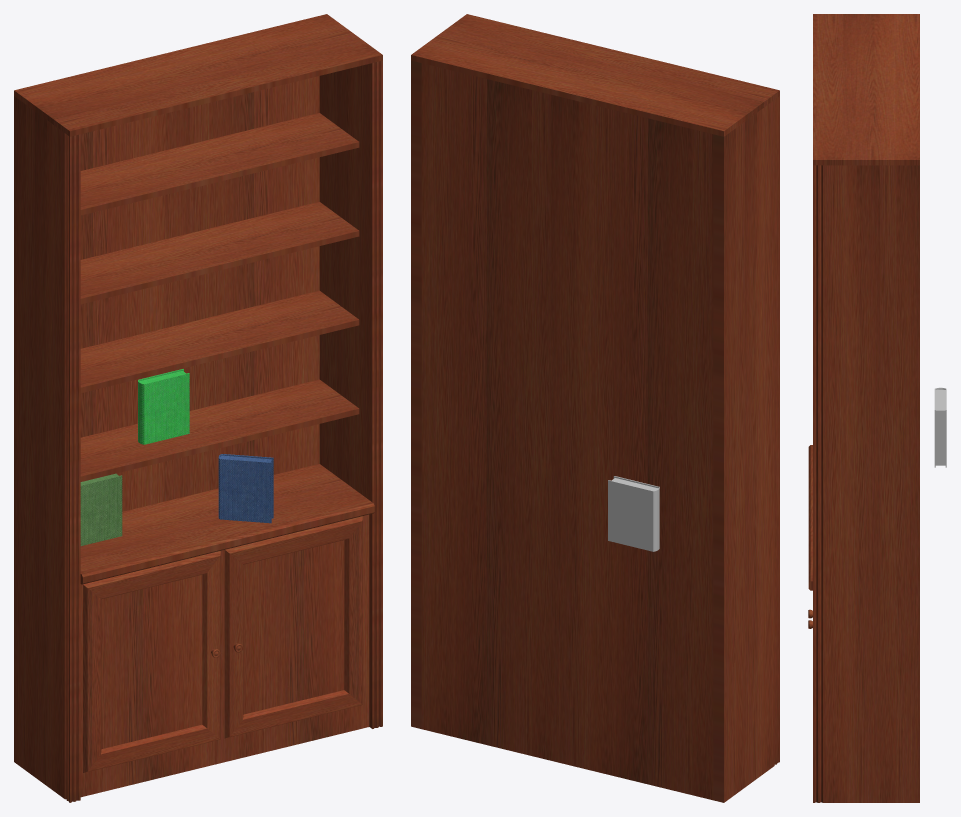
The picture shows the model from 3 angles, left to right: view 1: azimuth 30°, elevation 25°; view 2: azimuth 150°, elevation 25°; view 3: azimuth 270°, elevation 25°; orthographic projection. The views are drawn at different scales.
Parts seen in each view (by area): view 1: Cabinet, Cube-004, Cube-005, Cube-003; view 2: Cabinet, Cube-002; view 3: Cabinet, Cube-002.
Part boxes in pixels (left/top/right/bottom): Cabinet: left=14, top=14, right=382, bottom=802; Cube-004: left=218, top=454, right=273, bottom=523; Cube-005: left=138, top=369, right=189, bottom=444; Cube-003: left=80, top=473, right=122, bottom=545; Cabinet: left=411, top=14, right=779, bottom=802; Cube-002: left=608, top=476, right=659, bottom=551; Cabinet: left=808, top=14, right=919, bottom=802; Cube-002: left=934, top=387, right=946, bottom=467.
Bounding box in the file's own units: 118 × 242 × 47.14.
6 materials, 4 textured.
